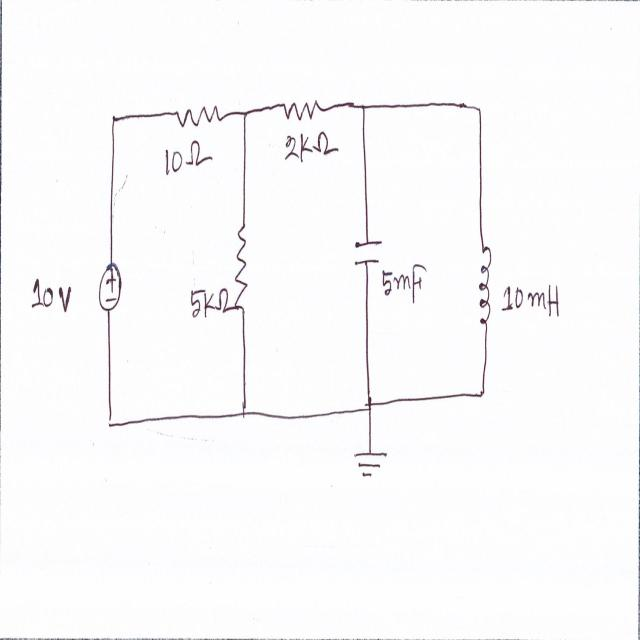capacitor: (354, 231, 383, 275)
ground: (348, 442, 390, 486)
inductor: (476, 231, 495, 340)
resistor: (172, 100, 224, 136), (235, 216, 252, 318), (280, 88, 320, 126)
voltage_source: (96, 250, 124, 324)
